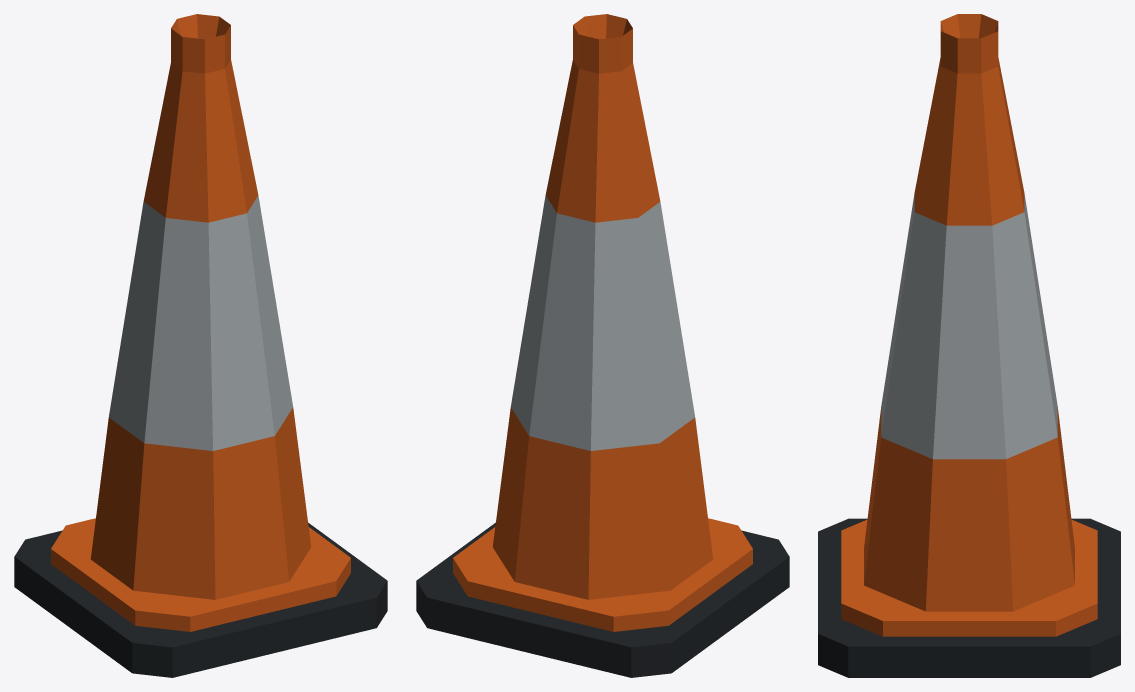
The model's file is site-traffic-cone-d3ce94.glb.
The picture shows the model from 3 angles, left to right: view 1: azimuth 30°, elevation 25°; view 2: azimuth 150°, elevation 25°; view 3: azimuth 270°, elevation 25°; orthographic projection. The views are drawn at different scales.
Parts seen in each view (by area): view 1: cones; view 2: cones; view 3: cones.
Part boxes in pixels (bbox=[...]): cones: bbox=[14, 14, 387, 677]; cones: bbox=[416, 14, 789, 677]; cones: bbox=[818, 14, 1120, 677].
Bounding box in the file's own units: 0.35 × 0.75 × 0.35.
